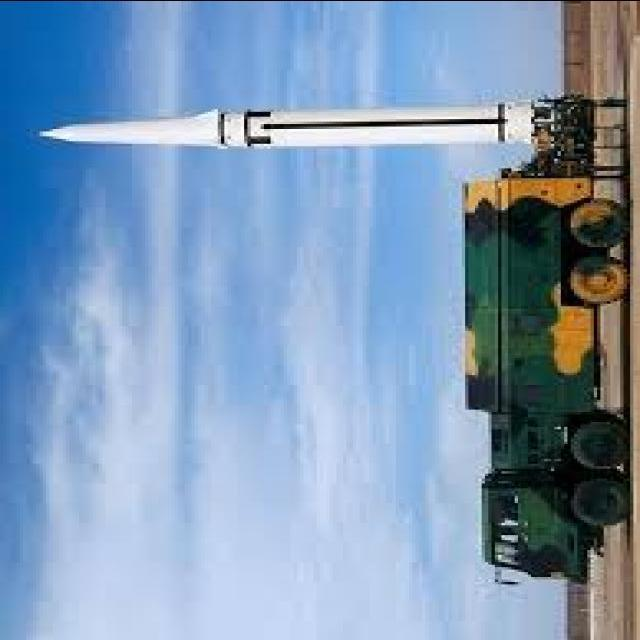missile: (40, 98, 533, 150)
